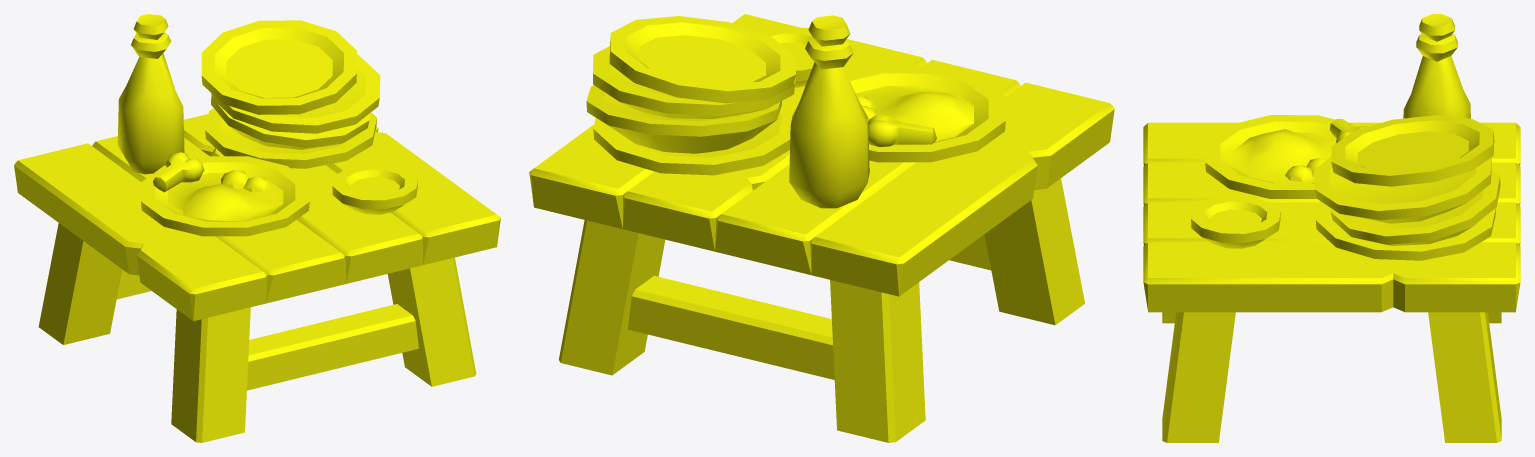
File: kaykit-table-medium-decorated-a.glb
3 views of the same model, side by side, from view 1: azimuth 30°, elevation 25°; view 2: azimuth 150°, elevation 25°; view 3: azimuth 270°, elevation 25° (orthographic). The views are drawn at different scales.
Visible parts, largest first — view 1: table_medium_decorated_A; view 2: table_medium_decorated_A; view 3: table_medium_decorated_A.
Part boxes in pixels (x1,y1,x2,y2): table_medium_decorated_A: (14, 14, 500, 442); table_medium_decorated_A: (529, 14, 1114, 442); table_medium_decorated_A: (1143, 14, 1520, 442).
Bounding box in the file's own units: 2 × 1.89 × 2.
